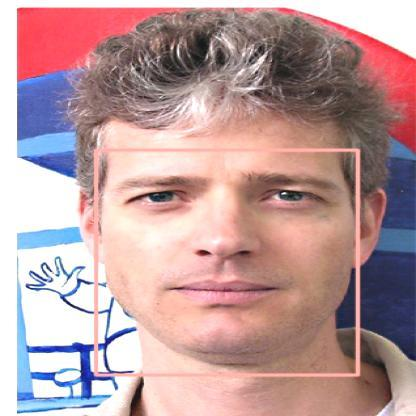without_mask: (96, 150, 357, 375)
